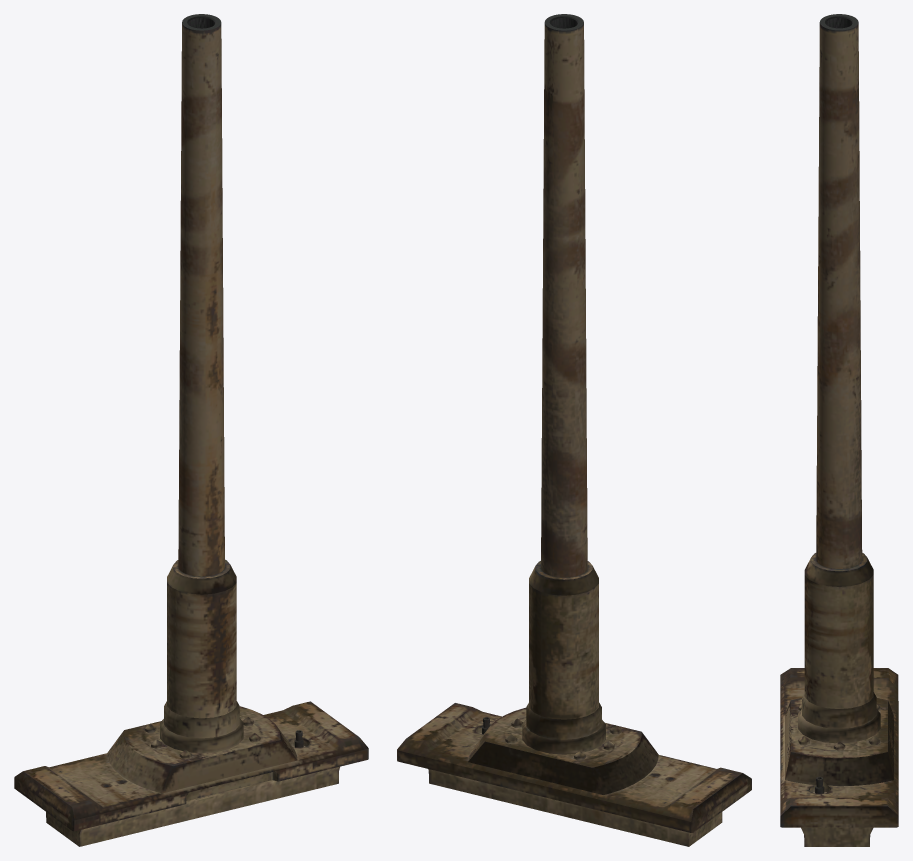
Rendered from Gun_03.glb.
The picture shows the model from 3 angles, left to right: view 1: azimuth 30°, elevation 25°; view 2: azimuth 150°, elevation 25°; view 3: azimuth 270°, elevation 25°; orthographic projection.
Parts seen in each view (by area): view 1: set_0_group_0; view 2: set_0_group_0; view 3: set_0_group_0.
Boxes of the visible parts, x1=… form: set_0_group_0: x1=14, y1=14, x2=368, y2=846; set_0_group_0: x1=397, y1=14, x2=751, y2=846; set_0_group_0: x1=780, y1=14, x2=898, y2=846.
Bounding box in the file's own units: 1.6 × 4.02 × 0.5606.
Materials: 1 (1 with a texture image).
